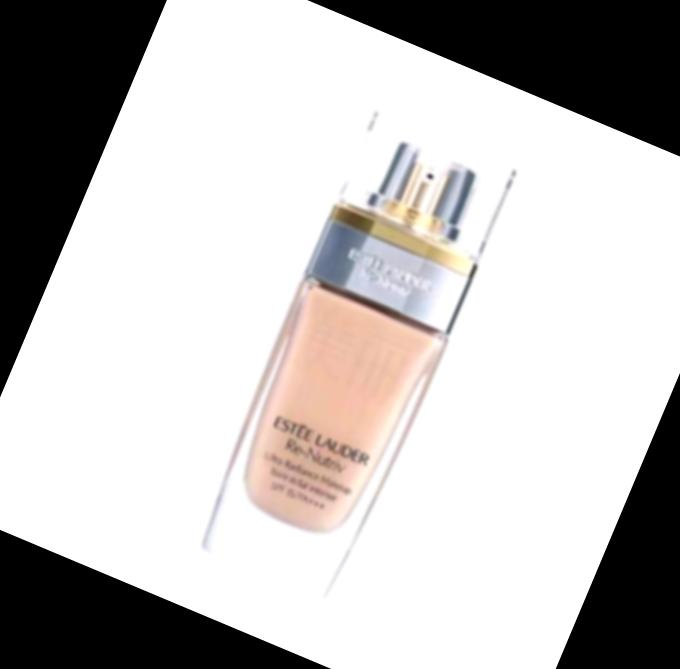cosmetic: (191, 110, 515, 606)
